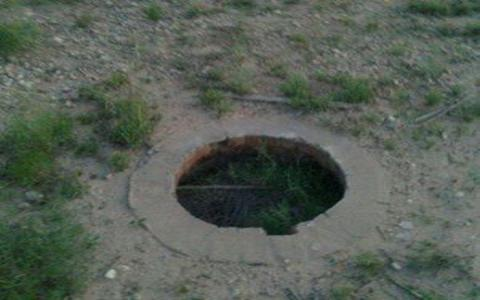open manhole: (166, 128, 383, 249)
